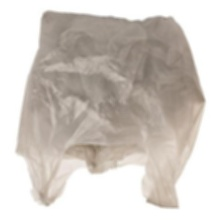plastic_bag: (11, 5, 211, 219)
